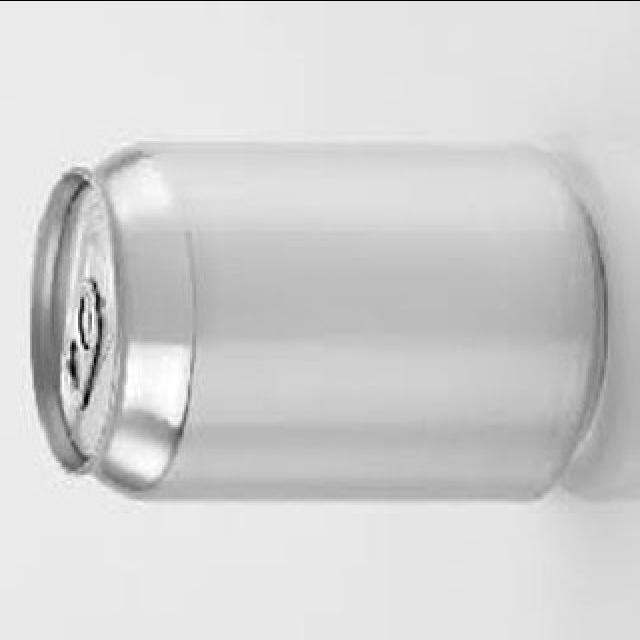can: (27, 138, 616, 501)
